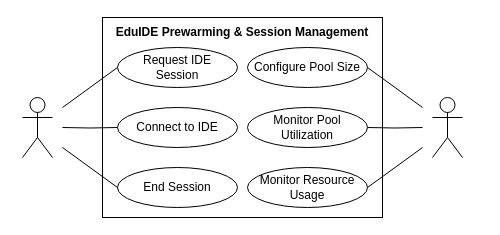
Image size: 500x235. Some labels were removed from this diagram. The centre of each missing label's shape, as x and y in pixels:
"Administrator" belongs at pixel 447 127.
"Student" belongs at pixel 37 127.
